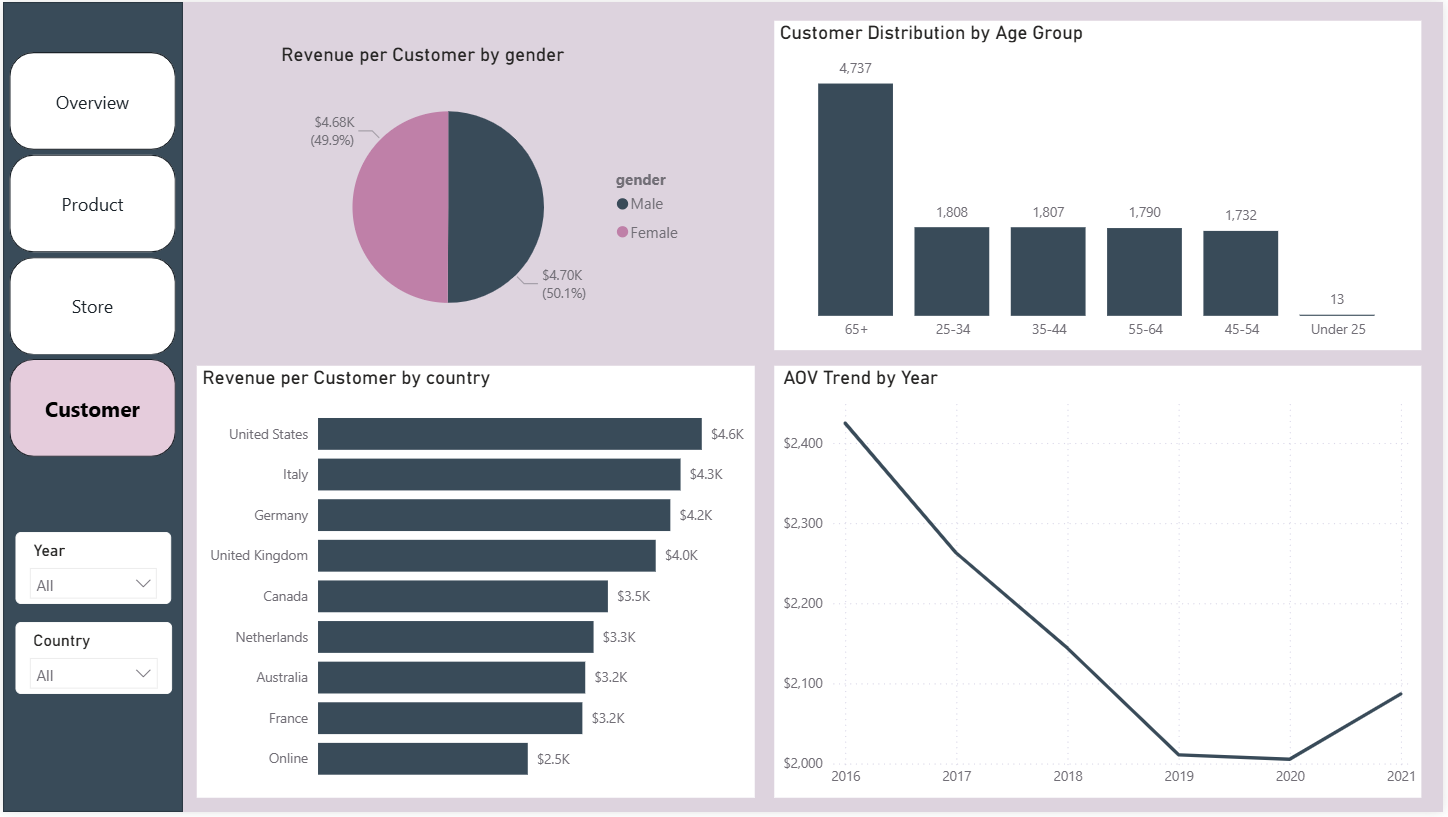

This screenshot's page, from the dashboard's own definition file:
{"tool":"powerbi","page":{"name":"Customer","canvas":[1280,720],"ordinal":3},"visuals":[{"type":"shape","box":[0.3,0,160,720],"z":0},{"type":"slicer","fields":{"Values":["YearTable.order_year"]},"box":[11.2,471.2,138.8,63.8],"z":1000},{"type":"pieChart","fields":{"Category":["customer_sum.gender"],"Y":["customer_sum.Revenue per Customer"]},"box":[242.5,16.2,372.5,307.5],"z":2000},{"type":"slicer","fields":{"Values":["customer_sum.country"]},"box":[11.1,551.1,138.9,64],"z":3000},{"type":"columnChart","title":"Customer Distribution by Age Group","fields":{"Category":["customer_sum.Age Group"],"Y":["Count(customer_sum.customer_key)"]},"box":[685,16.2,575,292.5],"z":4000},{"type":"barChart","fields":{"Category":["customer_sum.country"],"Y":["customer_sum.Revenue per Customer"]},"box":[172.5,323.8,496.2,383.8],"z":5000},{"type":"lineChart","title":"AOV Trend by Year","fields":{"Category":["customer_sum.order_year"],"Y":["customer_sum.AOV"]},"box":[685,323.8,575,383.8],"z":6000},{"type":"pageNavigator","box":[5.6,44.4,148.9,362.2],"z":7000}]}

Visuals, with their boxes in screenshot pixels (x1, y1, x2, y2), scaled from the page's 1280x720 canvas onto the 1448x817 screenshot:
shape: bbox(0, 0, 181, 816)
slicer - YearTable.order_year: bbox(13, 535, 170, 607)
pieChart - customer_sum.gender x customer_sum.Revenue per Customer: bbox(274, 18, 696, 367)
slicer - customer_sum.country: bbox(13, 625, 170, 698)
"Customer Distribution by Age Group" columnChart: bbox(775, 18, 1425, 350)
barChart - customer_sum.country x customer_sum.Revenue per Customer: bbox(195, 367, 756, 803)
"AOV Trend by Year" lineChart: bbox(775, 367, 1425, 803)
pageNavigator: bbox(6, 50, 175, 461)
